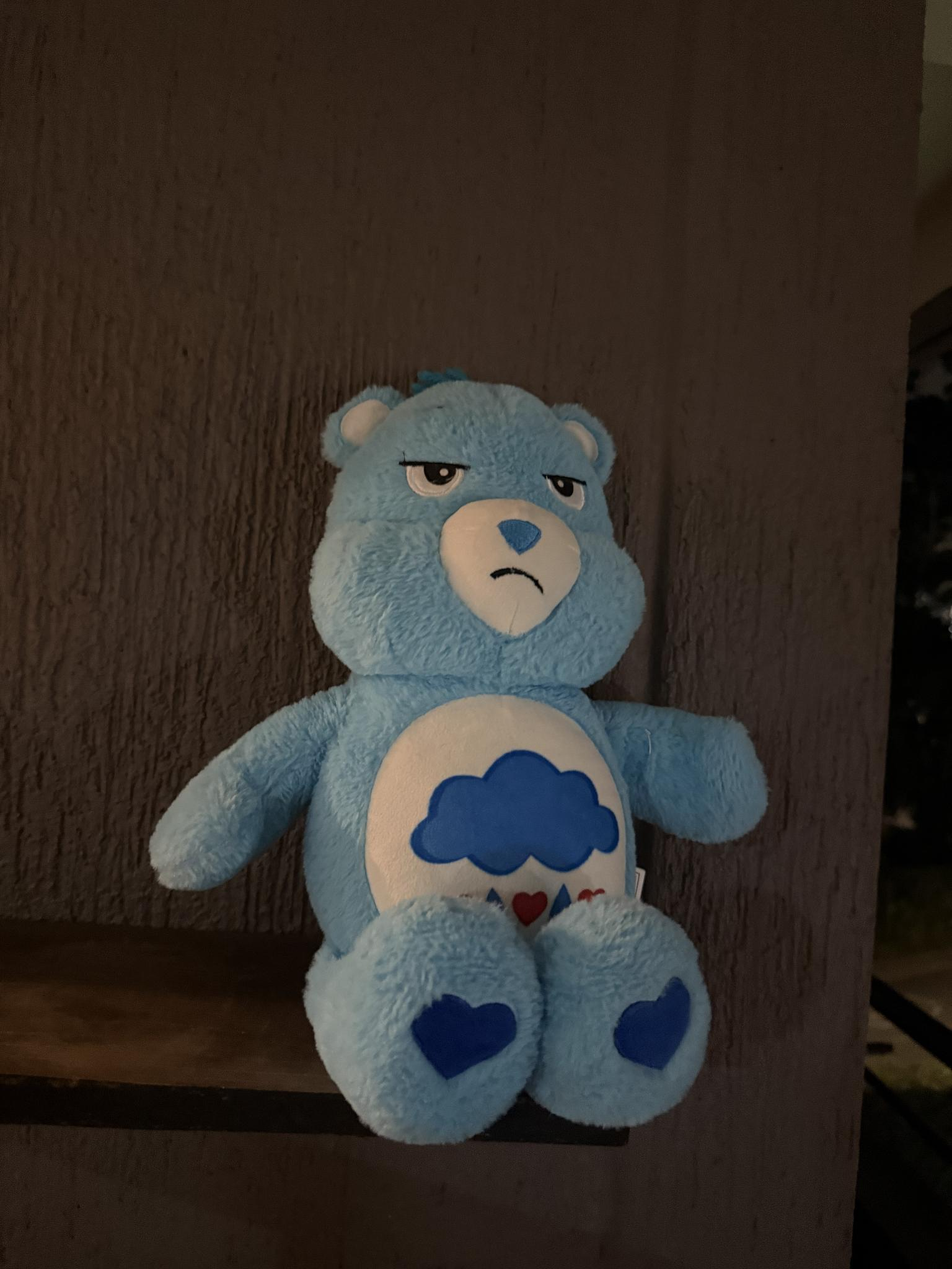peluche_Juan Jose: (142, 369, 773, 1153)
